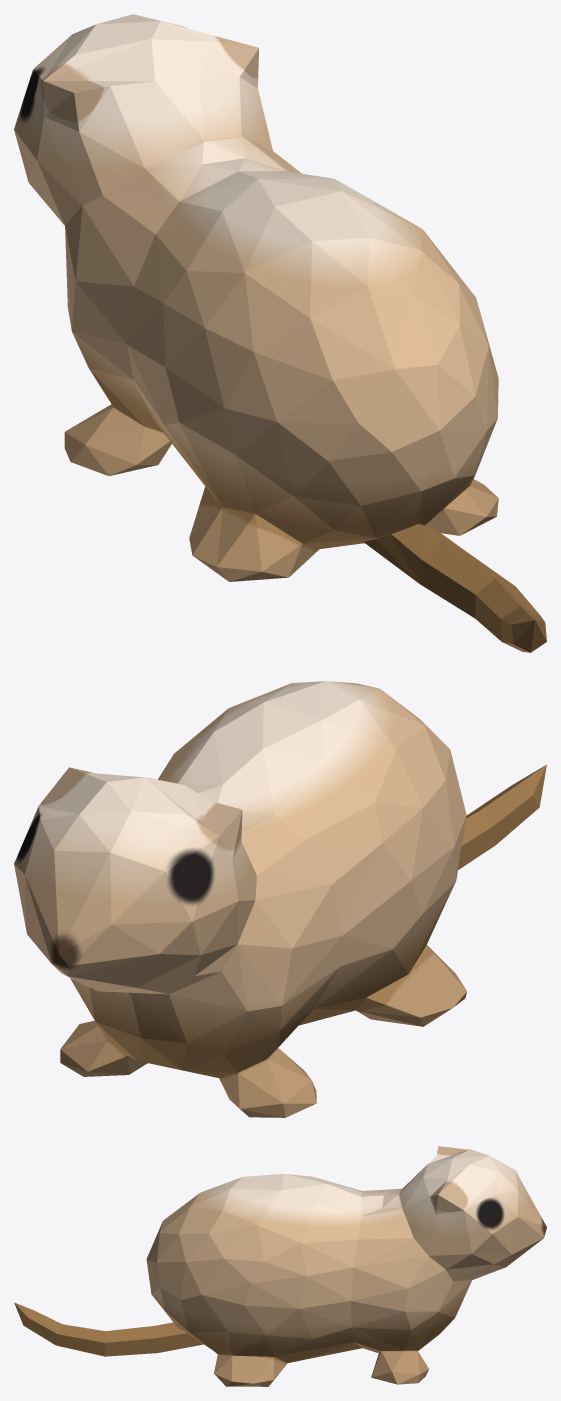
The model's file is animal_prairiedog_blob.obj.
3 views of the same model, one above another, from view 1: azimuth 30°, elevation 25°; view 2: azimuth 150°, elevation 25°; view 3: azimuth 270°, elevation 25° (orthographic). The views are drawn at different scales.
Visible parts, largest first — view 1: animal_prairiedog_blob; view 2: animal_prairiedog_blob; view 3: animal_prairiedog_blob.
Boxes of the visible parts, x1,y1,x2,y2 form: animal_prairiedog_blob: [14, 14, 546, 652]; animal_prairiedog_blob: [14, 681, 546, 1117]; animal_prairiedog_blob: [14, 1146, 546, 1386].
Bounding box in the file's own units: 0.2544 × 0.3007 × 0.7462.
